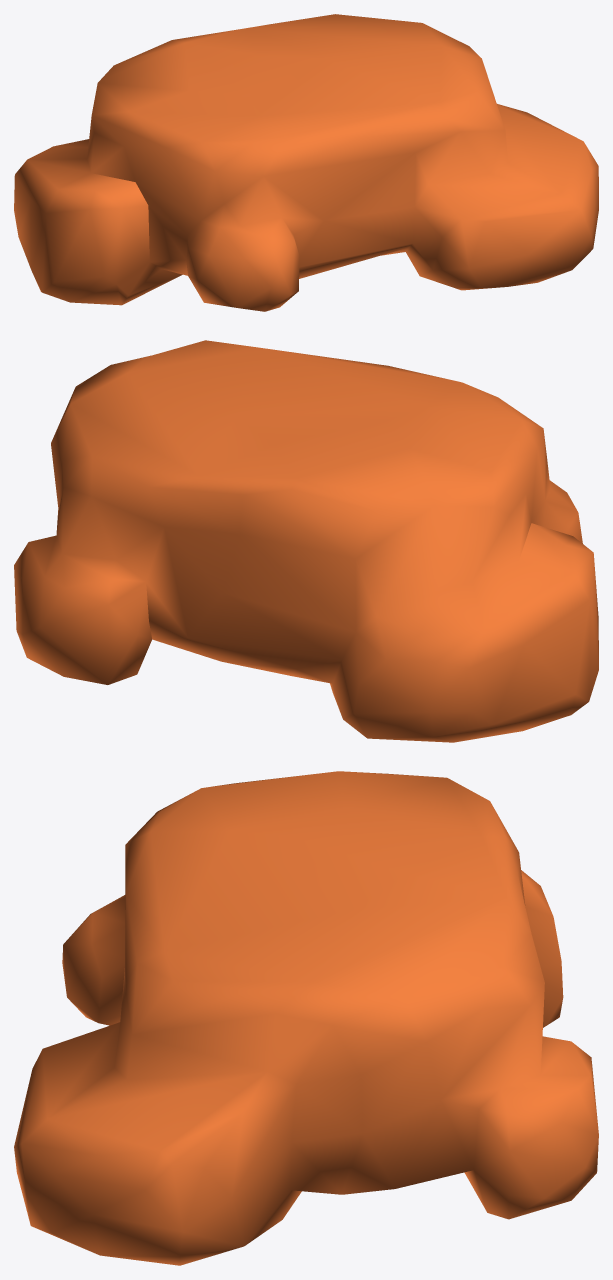
The model's file is Rock1.fbx.
3 views of the same model, one above another, from view 1: azimuth 30°, elevation 25°; view 2: azimuth 150°, elevation 25°; view 3: azimuth 270°, elevation 25° (orthographic). The views are drawn at different scales.
Visible parts, largest first — view 1: detailrock1; view 2: detailrock1; view 3: detailrock1.
Part boxes in pixels (x1,y1,x2,y2): detailrock1: [14, 14, 598, 311]; detailrock1: [14, 340, 598, 742]; detailrock1: [14, 771, 598, 1265].
Bounding box in the file's own units: 246 × 84.83 × 182.
